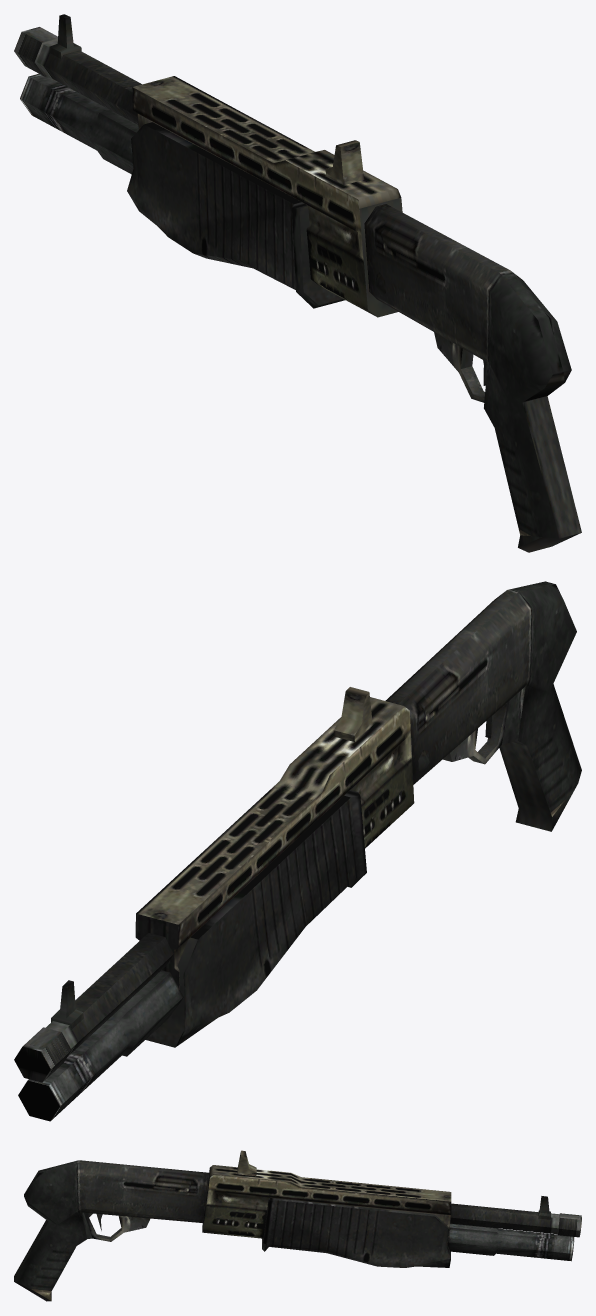
The model's file is S_Shotgun.obj.
3 views of the same model, one above another, from view 1: azimuth 30°, elevation 25°; view 2: azimuth 150°, elevation 25°; view 3: azimuth 270°, elevation 25° (orthographic). The views are drawn at different scales.
Visible parts, largest first — view 1: S_Shotgun; view 2: S_Shotgun; view 3: S_Shotgun.
Boxes of the visible parts, x1,y1,x2,y2 form: S_Shotgun: [14, 14, 581, 552]; S_Shotgun: [14, 581, 581, 1121]; S_Shotgun: [14, 1150, 581, 1301].
Size of the model in its own units: 2.23 by 8.65 by 30.87.
Materials: 1 (1 with a texture image).
